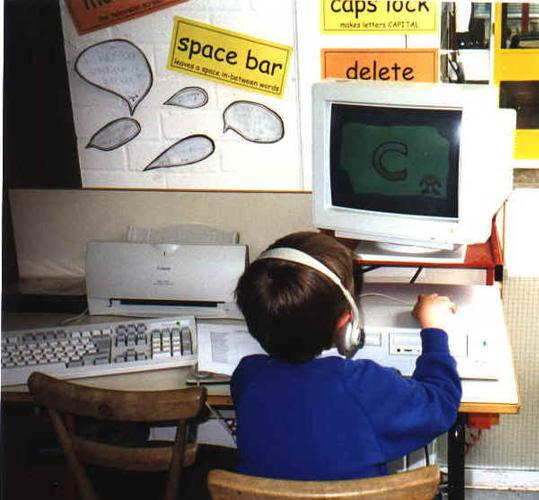person: (228, 231, 465, 488)
